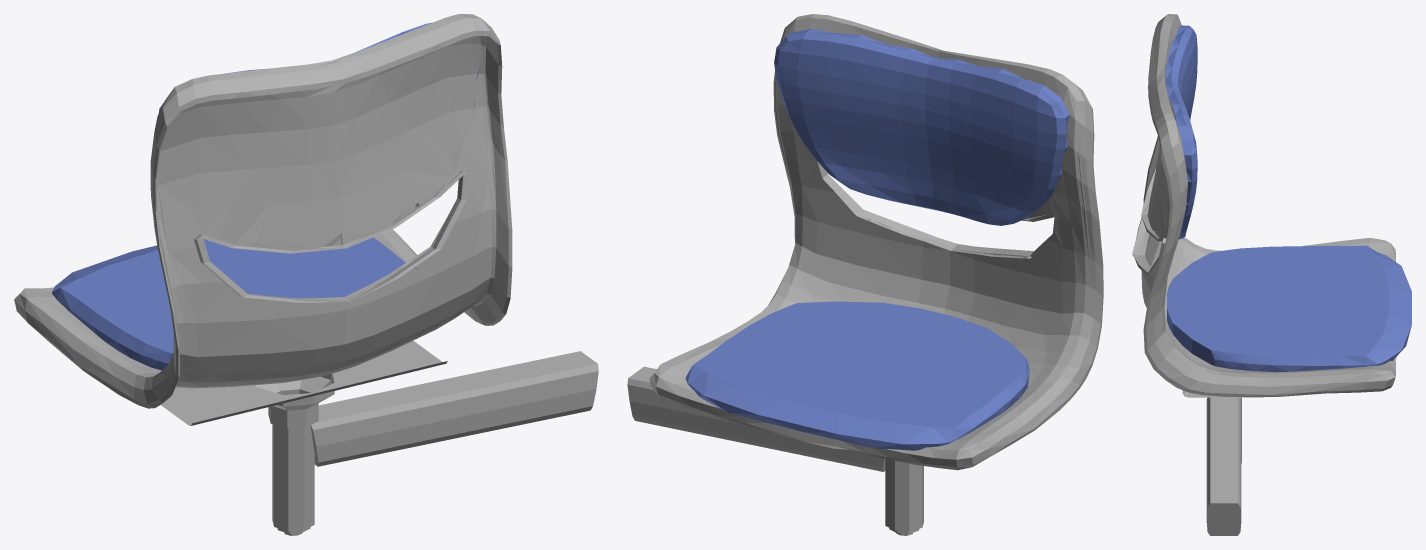
File: Bolin127ChairLeft.fbx
3 views of the same model, side by side, from view 1: azimuth 30°, elevation 25°; view 2: azimuth 150°, elevation 25°; view 3: azimuth 270°, elevation 25° (orthographic). The views are drawn at different scales.
Visible parts, largest first — view 1: Chair, Right_Handle, Lower_Cushion, Bottom_Pole; view 2: Chair, Upper_Cushion, Lower_Cushion, Right_Handle, Bottom_Pole; view 3: Lower_Cushion, Chair, Right_Handle, Upper_Cushion.
Boxes of the visible parts, bbox=[...] form: Chair: bbox=[14, 14, 512, 408]; Right_Handle: bbox=[310, 351, 598, 466]; Lower_Cushion: bbox=[52, 237, 405, 370]; Bottom_Pole: bbox=[161, 340, 447, 535]; Chair: bbox=[649, 14, 1103, 470]; Upper_Cushion: bbox=[774, 29, 1069, 225]; Lower_Cushion: bbox=[685, 301, 1029, 450]; Right_Handle: bbox=[627, 366, 885, 471]; Bottom_Pole: bbox=[885, 459, 923, 535]; Lower_Cushion: bbox=[1167, 245, 1411, 372]; Chair: bbox=[1132, 14, 1396, 396]; Right_Handle: bbox=[1206, 397, 1241, 535]; Upper_Cushion: bbox=[1165, 25, 1197, 239].
Bounding box in the file's own units: 3.83 × 3.92 × 2.46.
